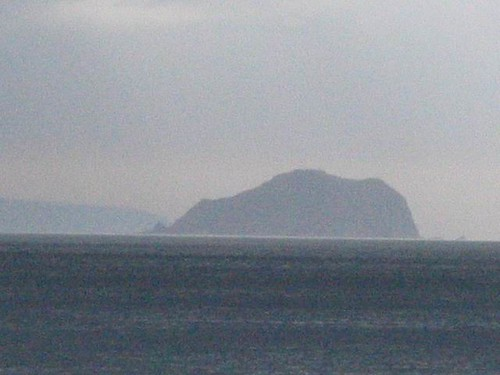turtleIsland: (146, 165, 420, 239)
